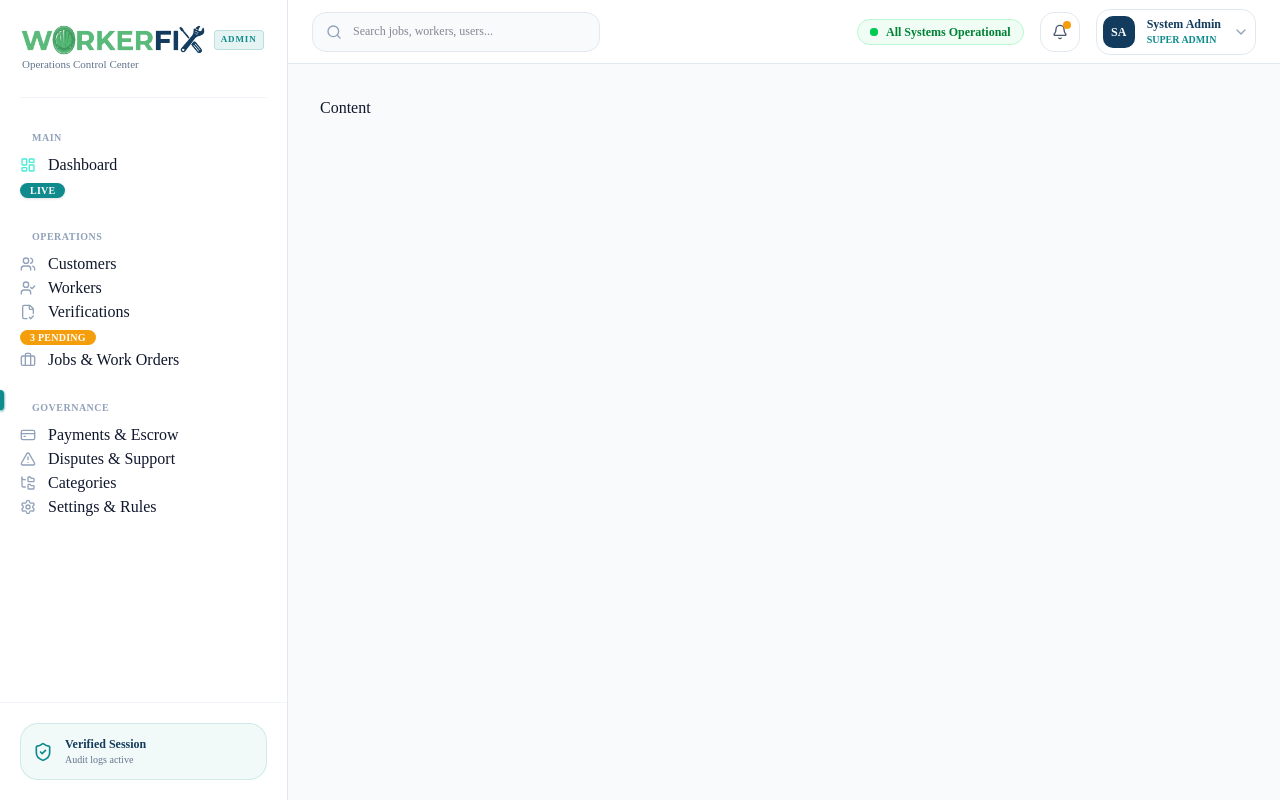
Test: AdminShell › shows profile dropdown with sign out
Click the button "SA System Admin SUPER ADMIN" at (1176, 32), box [1096, 8, 1256, 54]
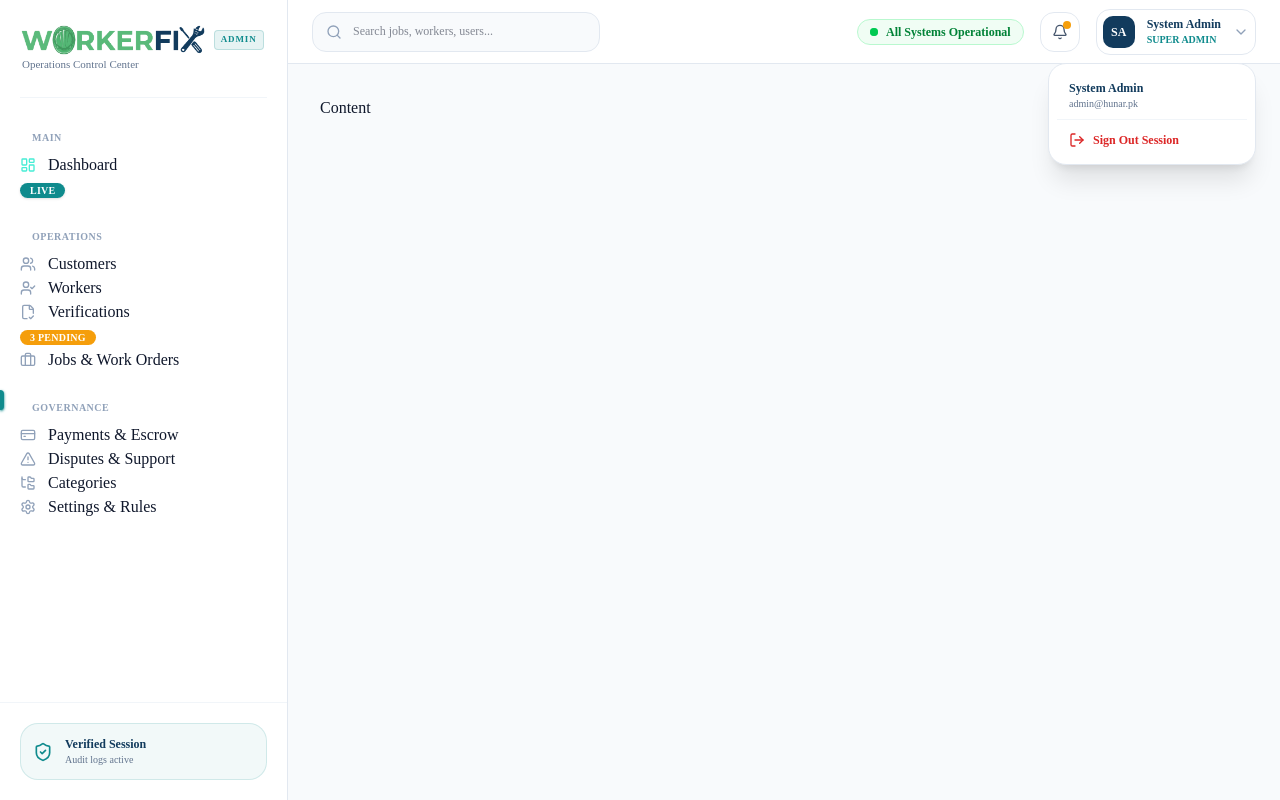
Check: the button "Sign Out Session" is shown, box [1057, 124, 1247, 156]
